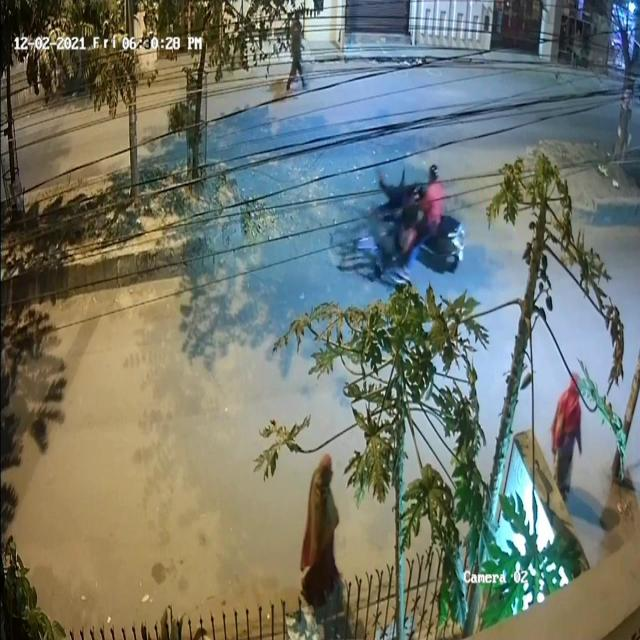accident: (333, 143, 471, 295)
